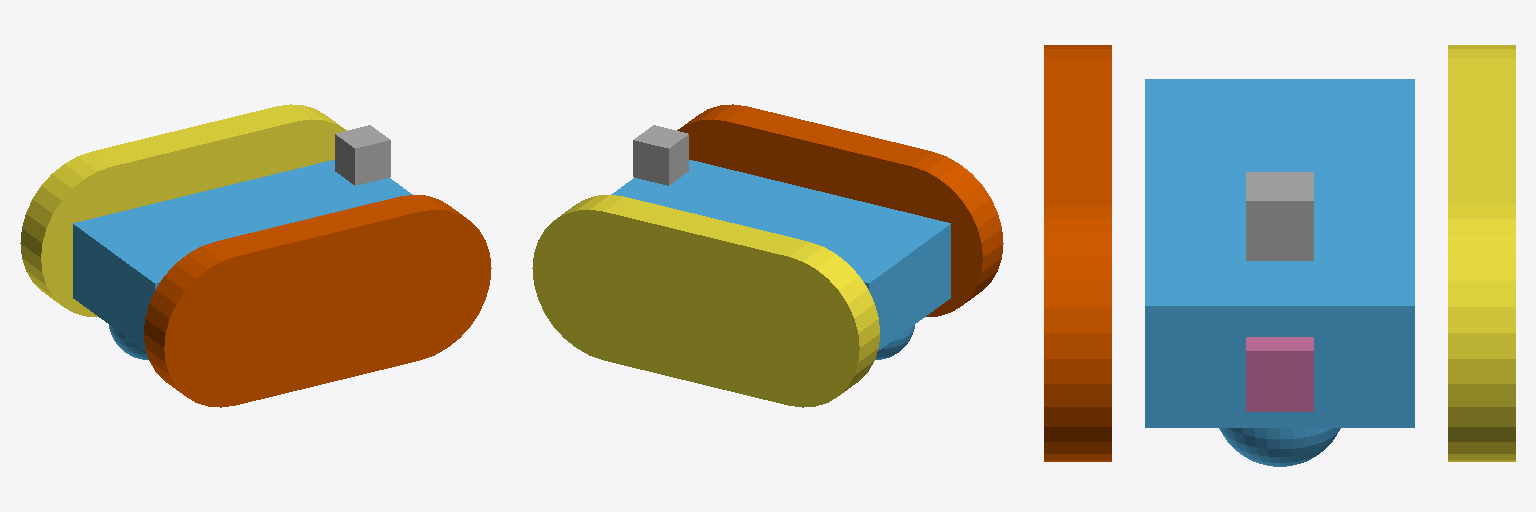
URDF robot description (skidbot):
<?xml version="1.0" ?>
<robot name="skidbot">
  <!-- diff_drive controller -->
  <gazebo>
    <plugin filename="libgazebo_ros_diff_drive.so" name="diff_drive">
      <ros>
        <namespace>/diffbot</namespace>
      </ros>
      <!-- wheels -->
      <left_joint>front_left_wheel_joint</left_joint>
      <right_joint>front_right_wheel_joint</right_joint>
      <!-- kinematics -->
      <wheel_separation>0.4</wheel_separation>
      <wheel_diameter>0.2</wheel_diameter>
      <!-- limits -->
      <max_wheel_torque>10</max_wheel_torque>
      <max_wheel_acceleration>1.0</max_wheel_acceleration>
      <!-- output -->
      <publish_odom>true</publish_odom>
      <publish_odom_tf>true</publish_odom_tf>
      <publish_wheel_tf>true</publish_wheel_tf>
      <odometry_frame>odom</odometry_frame>
      <robot_base_frame>robot_footprint</robot_base_frame>
    </plugin>
  </gazebo>
  <!-- camera -->
  <gazebo reference="camera">
    <sensor name="camera_sensor" type="camera">
      <update_rate>30.0</update_rate>
      <always_on>1</always_on>
      <camera name="camera">
        <horizontal_fov>1.3962634</horizontal_fov>
        <image>
          <width>800</width>
          <height>800</height>
          <format>R8G8B8</format>
        </image>
        <clip>
          <near>0.02</near>
          <far>300</far>
        </clip>
        <distortion>
          <k1>0.0</k1>
          <k2>0.0</k2>
          <k3>0.0</k3>
          <p1>0.0</p1>
          <p2>0.0</p2>
          <center>0.5 0.5</center>
        </distortion>
      </camera>
      <plugin filename="libgazebo_ros_camera.so" name="camera_controller">
        <ros>
          <namespace>/diffbot</namespace>
          <argument>camera/image_raw:=/diffbot/camera/image</argument>
          <argument>camera/camera_info:=/diffbot/camera/image/camera_info</argument>
        </ros>
        <camera_name>camera_sensor</camera_name>
        <frame_name>robot_footprint</frame_name>
        <hack_baseline>0.07</hack_baseline>
      </plugin>
    </sensor>
  </gazebo>
  <!-- hokuyo -->
  <gazebo reference="hokuyo">
    <sensor name="head_hokuyo_sensor" type="ray">
      <pose>0 0 0 0 0 0</pose>
      <visualize>false</visualize>
      <update_rate>40</update_rate>
      <ray>
        <scan>
          <horizontal>
            <samples>720</samples>
            <resolution>1</resolution>
            <min_angle>-1.570796</min_angle>
            <max_angle>1.570796</max_angle>
          </horizontal>
        </scan>
        <range>
          <min>0.10</min>
          <max>30.0</max>
          <resolution>0.01</resolution>
        </range>
        <noise>
          <type>gaussian</type>
          <!-- Noise parameters based on published spec for Hokuyo laser
                achieving "+-30mm" accuracy at range < 10m.  A mean of 0.0m and
                stddev of 0.01m will put 99.7% of samples within 0.03m of the true
                reading. -->
          <mean>0.0</mean>
          <stddev>0.01</stddev>
        </noise>
      </ray>
      <update_rate>30</update_rate>
      <plugin filename="libgazebo_ros_ray_sensor.so" name="gazebo_ros_head_hokuyo_controller">
        <ros>
          <namespace>/diffbot</namespace>
          <argument>~/out:=scan</argument>
        </ros>
        <output_type>sensor_msgs/LaserScan</output_type>
      </plugin>
    </sensor>
  </gazebo>
  <link name="robot_footprint"/>
  <joint name="robot_footprint_joint" type="fixed">
    <origin rpy="0 0 0" xyz="0 0 0"/>
    <parent link="robot_footprint"/>
    <child link="chassis"/>
  </joint>
  <link name="chassis">
    <pose>0 0 0.1 0 0 0</pose>
    <inertial>
      <mass value="15.0"/>
      <origin rpy=" 0 0 0" xyz="0.0 0 0"/>
      <inertia ixx="0.1" ixy="0" ixz="0" iyy="0.1" iyz="0" izz="0.1"/>
    </inertial>
    <collision name="collision">
      <origin rpy=" 0 0 0" xyz="0 0 0"/>
      <geometry>
        <box size=".4 .2 .1"/>
      </geometry>
    </collision>
    <visual name="chassis_visual">
      <origin rpy=" 0 0 0" xyz="0 0 0"/>
      <geometry>
        <box size=".4 .2 .1"/>
      </geometry>
    </visual>
    <collision name="back_caster_collision">
      <origin rpy=" 0 0 0" xyz="-0.15 0 -0.05"/>
      <geometry>
        <sphere radius="0.0499"/>
      </geometry>
    </collision>
    <visual name="back_caster_visual">
      <origin rpy=" 0 0 0" xyz="-0.15 0 -0.05"/>
      <geometry>
        <sphere radius="0.05"/>
      </geometry>
    </visual>
    <collision name="front_caster_collision">
      <origin rpy=" 0 0 0" xyz="0.15 0 -0.05"/>
      <geometry>
        <sphere radius="0.0499"/>
      </geometry>
    </collision>
    <visual name="front_caster_visual">
      <origin rpy=" 0 0 0" xyz="0.15 0 -0.05"/>
      <geometry>
        <sphere radius="0.05"/>
      </geometry>
    </visual>
  </link>
  <link name="front_left_wheel">
    <inertial>
      <mass value="8.0"/>
      <origin rpy=" 0 1.5707 1.5707" xyz="0.0 0 0"/>
      <inertia ixx="0.1" ixy="0" ixz="0" iyy="0.1" iyz="0" izz="0.1"/>
    </inertial>
    <collision>
      <origin rpy=" 0 1.5707 1.5707" xyz="0.0 0 0"/>
      <geometry>
        <cylinder length="0.05" radius="0.1"/>
      </geometry>
    </collision>
  </link>
  <!-- <link name="back_left_wheel"> -->
  <!-- Dummy -->
  <!-- </link> -->
  <link name="left_track">
    <visual name="left_track_visual">
      <origin rpy="1.5708 0 1.5708" xyz="0 0 0"/>
      <geometry>
        <box size="0.05 0.2 0.26"/>
      </geometry>
    </visual>
    <visual name="left_track_visual_1">
      <origin rpy="1.5708 -0 0" xyz="0.13 0 0"/>
      <geometry>
        <cylinder length="0.05" radius="0.1"/>
      </geometry>
    </visual>
    <visual name="left_track_visual_2">
      <origin rpy="1.5708 -0 0" xyz="-0.13 0 0"/>
      <geometry>
        <cylinder length="0.05" radius="0.1"/>
      </geometry>
    </visual>
  </link>
  <link name="front_right_wheel">
    <inertial>
      <mass value="8.0"/>
      <origin rpy=" 0 1.5707 1.5707" xyz="0.0 0 0"/>
      <inertia ixx="0.1" ixy="0" ixz="0" iyy="0.1" iyz="0" izz="0.1"/>
    </inertial>
    <collision>
      <origin rpy=" 0 1.5707 1.5707" xyz="0.0 0 0"/>
      <geometry>
        <cylinder length="0.05" radius="0.1"/>
      </geometry>
    </collision>
  </link>
  <!-- <link name="back_right_wheel"> -->
  <!-- Dummy -->
  <!-- </link> -->
  <link name="right_track">
    <visual name="right_track_visual">
      <origin rpy="1.5708 0 1.5708" xyz="0 0 0"/>
      <geometry>
        <box size="0.05 0.2 0.26"/>
      </geometry>
    </visual>
    <visual name="right_track_visual_1">
      <origin rpy="1.5708 -0 0" xyz="0.13 0 0"/>
      <geometry>
        <cylinder length="0.05" radius="0.1"/>
      </geometry>
    </visual>
    <visual name="right_track_visual_2">
      <origin rpy="1.5708 -0 0" xyz="-0.13 0 0"/>
      <geometry>
        <cylinder length="0.05" radius="0.1"/>
      </geometry>
    </visual>
  </link>
  <link name="camera">
    <inertial>
      <mass value="0.1"/>
      <origin rpy=" 0 0 0" xyz="0.05 0.05 0.05"/>
      <inertia ixx="1e-6" ixy="0" ixz="0" iyy="1e-6" iyz="0" izz="1e-6"/>
    </inertial>
    <visual name="camera_visual">
      <origin rpy="0 0 0" xyz="0 0 0"/>
      <geometry>
        <box size="0.05 0.05 0.05"/>
      </geometry>
    </visual>
    <collision name="camera_colision">
      <origin rpy="0 0 0" xyz="0 0 0"/>
      <geometry>
        <box size="0.05 0.05 0.05"/>
      </geometry>
    </collision>
  </link>
  <link name="hokuyo">
    <inertial>
      <mass value="1e-5"/>
      <origin rpy=" 0 0 0" xyz="0 0 0"/>
      <inertia ixx="1e-6" ixy="0" ixz="0" iyy="1e-6" iyz="0" izz="1e-6"/>
    </inertial>
    <visual name="hokuyo_visual">
      <origin rpy="0 0 0" xyz="0 0 0"/>
      <geometry>
        <box size="0.05 0.05 0.05"/>
      </geometry>
    </visual>
    <collision name="hokuyo_colision">
      <origin rpy="0 0 0" xyz="0 0 0"/>
      <geometry>
        <box size="0.1 0.1 0.1"/>
      </geometry>
    </collision>
  </link>
  <joint name="front_left_wheel_joint" type="continuous">
    <origin rpy="0 0 0" xyz="0.0 0.15 0"/>
    <child link="front_left_wheel"/>
    <parent link="chassis"/>
    <axis rpy="0 0 0" xyz="0 1 0"/>
    <limit effort="10000" velocity="1000"/>
    <dynamics damping="1.0" friction="1.0"/>
  </joint>
  <joint name="front_right_wheel_joint" type="continuous">
    <origin rpy="0 0 0" xyz="0.0 -0.15 0"/>
    <child link="front_right_wheel"/>
    <parent link="chassis"/>
    <axis rpy="0 0 0" xyz="0 1 0"/>
    <limit effort="10000" velocity="1000"/>
    <dynamics damping="1.0" friction="1.0"/>
  </joint>
  <joint name="right_track_j" type="fixed">
    <origin rpy="0 0 0" xyz="0 -0.15 0"/>
    <child link="right_track"/>
    <parent link="chassis"/>
  </joint>
  <joint name="left_track_j" type="fixed">
    <origin rpy="0 0 0" xyz="0 0.15 0"/>
    <child link="left_track"/>
    <parent link="chassis"/>
  </joint>
  <joint name="camera_joint" type="fixed">
    <origin rpy="0 0 0" xyz="0.2 0 0"/>
    <child link="camera"/>
    <parent link="chassis"/>
    <axis rpy="0 0 0" xyz="0 1 0"/>
  </joint>
  <joint name="hokuyo_joint" type="fixed">
    <origin rpy="0 0 0" xyz="0.15 0 0.1"/>
    <child link="hokuyo"/>
    <parent link="chassis"/>
    <axis rpy="0 0 0" xyz="0 1 0"/>
  </joint>
  <gazebo reference="chassis">
    <material>Gazebo/Green</material>
  </gazebo>
  <gazebo reference="left_track">
    <material>Gazebo/Black</material>
  </gazebo>
  <gazebo reference="right_track">
    <material>Gazebo/Black</material>
  </gazebo>
  <gazebo reference="camera">
    <material>Gazebo/Gray</material>
  </gazebo>
  <gazebo reference="hokuyo">
    <material>Gazebo/Black</material>
  </gazebo>
</robot>

--- What the picture shows (computed from the rendered views, not written in the file) ---
The picture shows the robot from 3 angles, left to right: view 1: azimuth 30°, elevation 25°; view 2: azimuth 150°, elevation 25°; view 3: azimuth 270°, elevation 25°; orthographic projection.
Model skidbot with 8 links and 7 joints (2 continuous, 5 fixed), rooted at robot_footprint, posed every joint at zero.
Visible links, largest first — view 1: right_track, left_track, chassis, hokuyo; view 2: left_track, right_track, chassis, hokuyo; view 3: chassis, left_track, right_track, hokuyo, camera.
Boxes of the visible links, bbox=[...] form: right_track: bbox=[144, 195, 491, 407]; left_track: bbox=[20, 104, 346, 316]; chassis: bbox=[73, 160, 412, 359]; hokuyo: bbox=[335, 125, 390, 185]; left_track: bbox=[532, 195, 879, 407]; right_track: bbox=[677, 104, 1003, 316]; chassis: bbox=[611, 160, 950, 359]; hokuyo: bbox=[633, 125, 688, 185]; chassis: bbox=[1145, 79, 1414, 466]; left_track: bbox=[1448, 45, 1515, 461]; right_track: bbox=[1044, 45, 1111, 461]; hokuyo: bbox=[1246, 172, 1313, 260]; camera: bbox=[1246, 337, 1313, 411].
Bounding box of the posed robot: 0.46 × 0.35 × 0.225 m (x, y, z).
Geometry: primitives only (box / cylinder / sphere), no mesh files.
